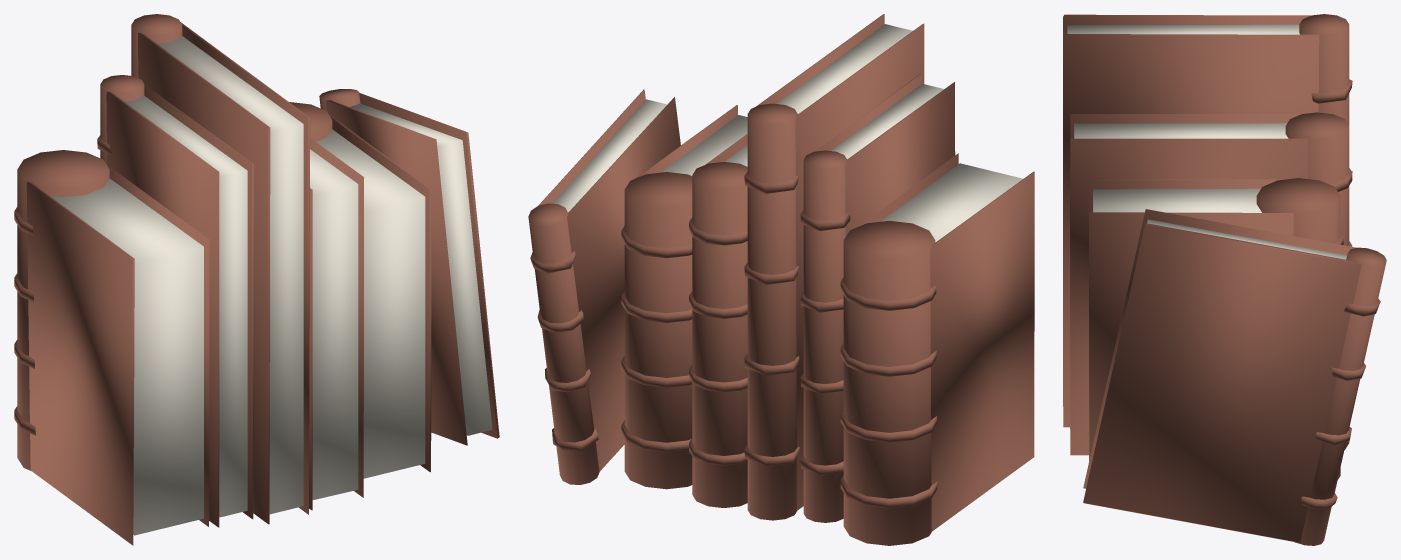
File: books_row_b.glb
The picture shows the model from 3 angles, left to right: view 1: azimuth 30°, elevation 25°; view 2: azimuth 150°, elevation 25°; view 3: azimuth 270°, elevation 25°; orthographic projection.
Visible parts, largest first — view 1: books_row_b; view 2: books_row_b; view 3: books_row_b.
Part boxes in pixels (x1,y1,x2,y2): books_row_b: (14,14,499,545); books_row_b: (528,14,1034,545); books_row_b: (1063,14,1386,545).
Size of the model in its own units: 0.2739 by 0.297 by 0.2087.
